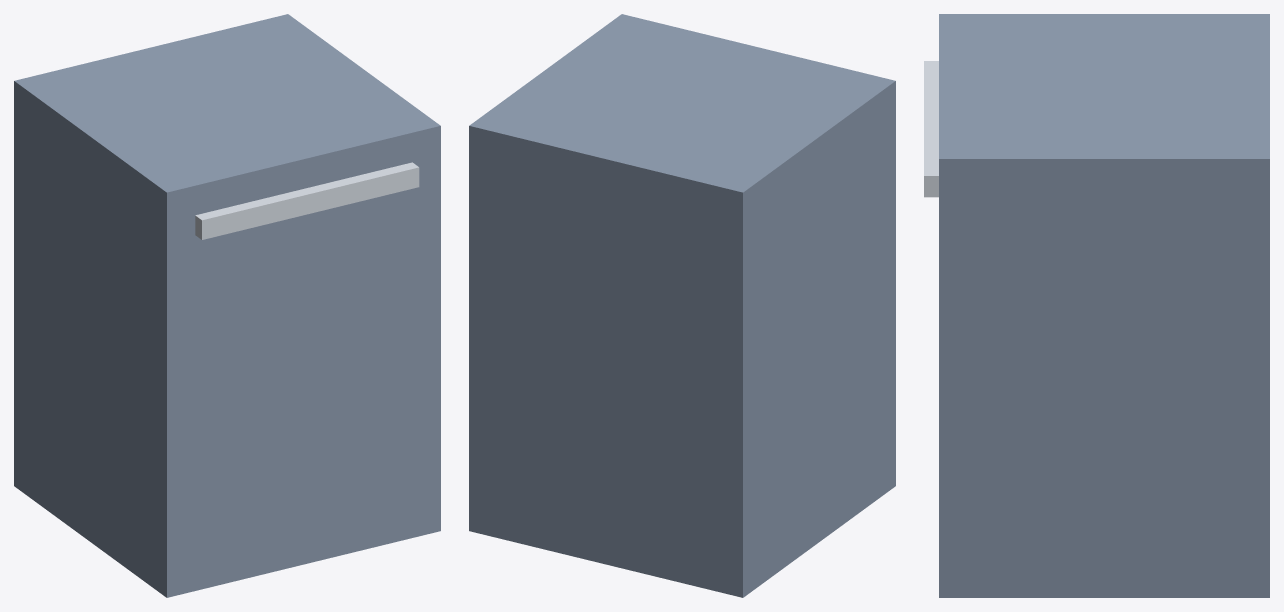
Rendered from fixture-dishwasher.glb.
3 views of the same model, side by side, from view 1: azimuth 30°, elevation 25°; view 2: azimuth 150°, elevation 25°; view 3: azimuth 270°, elevation 25° (orthographic). The views are drawn at different scales.
Visible parts, largest first — view 1: plumbing-fixture-dishwasher; view 2: plumbing-fixture-dishwasher; view 3: plumbing-fixture-dishwasher.
Part boxes in pixels (x1,y1,x2,y2): plumbing-fixture-dishwasher: [14, 14, 440, 597]; plumbing-fixture-dishwasher: [469, 14, 895, 597]; plumbing-fixture-dishwasher: [924, 14, 1269, 597].
Size of the model in its own units: 0.58 by 0.82 by 0.585.
